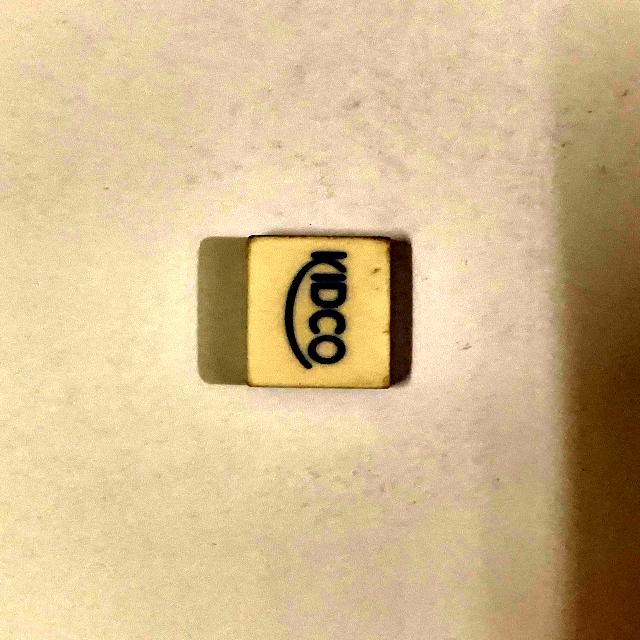Eraser: (203, 204, 440, 409)
